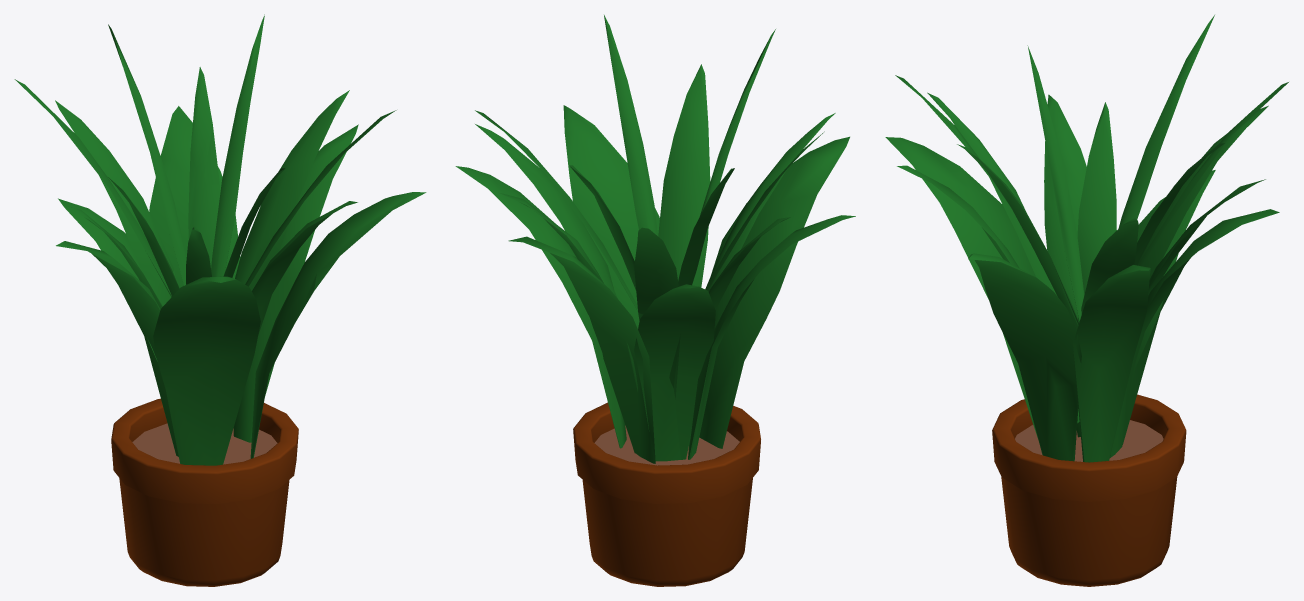
Rendered from Plant-7.fbx.
3 renders of one model, left to right at view 1: azimuth 30°, elevation 25°; view 2: azimuth 150°, elevation 25°; view 3: azimuth 270°, elevation 25°, orthographic. The views are drawn at different scales.
Visible parts, largest first — view 1: Plant-7; view 2: Plant-7; view 3: Plant-7.
Boxes of the visible parts, x1,y1,x2,y2 form: Plant-7: [14, 14, 426, 586]; Plant-7: [455, 15, 855, 586]; Plant-7: [885, 15, 1288, 586].
Size of the model in its own units: 1.63 by 2.06 by 1.58.
